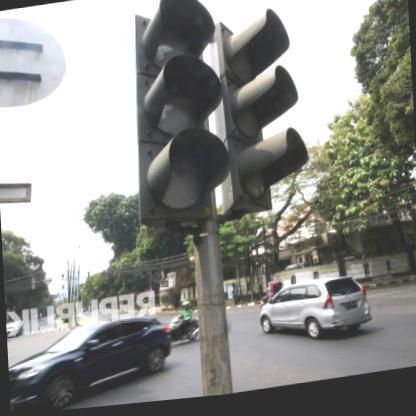green: (125, 0, 222, 237)
